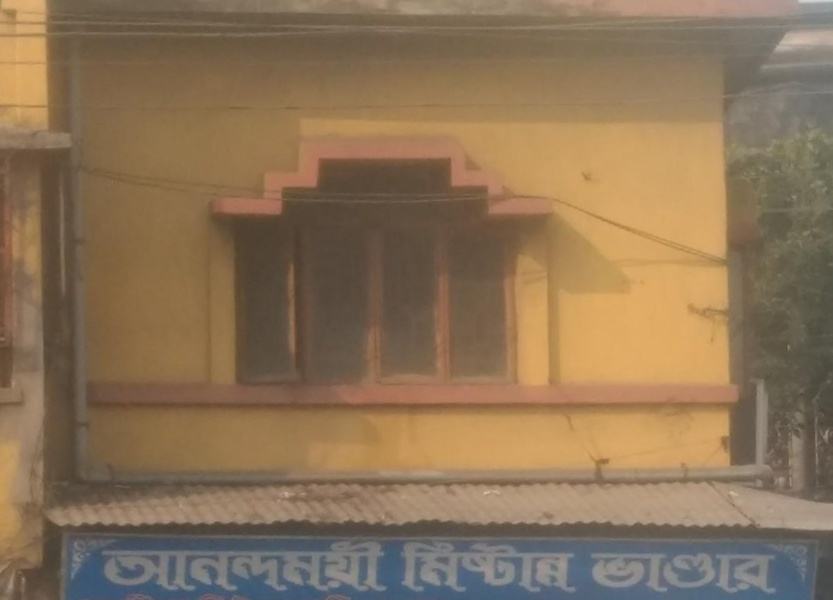text: (97, 540, 112, 597), (113, 540, 128, 597), (129, 540, 144, 597), (145, 540, 160, 597), (161, 540, 176, 597), (177, 540, 192, 597), (193, 540, 208, 597), (209, 540, 224, 597), (225, 540, 240, 597), (241, 540, 256, 597), (257, 540, 272, 597), (273, 540, 288, 597), (289, 540, 304, 597), (305, 540, 320, 597), (321, 540, 336, 597), (337, 540, 352, 597), (353, 540, 368, 597), (369, 540, 384, 597), (401, 540, 416, 597), (417, 540, 432, 597), (433, 540, 448, 597), (449, 540, 464, 597), (465, 540, 480, 597), (481, 540, 496, 597), (497, 540, 512, 597), (513, 540, 528, 597), (529, 540, 544, 597), (545, 540, 560, 597), (561, 540, 576, 597), (769, 549, 785, 597), (593, 549, 608, 597), (609, 549, 624, 597), (625, 549, 640, 597), (641, 549, 656, 597), (657, 549, 672, 597), (673, 549, 688, 597), (689, 549, 704, 597), (705, 549, 720, 597), (721, 549, 736, 597), (737, 549, 752, 597), (753, 549, 768, 597), (385, 540, 391, 597), (577, 540, 582, 597), (398, 540, 400, 597), (590, 549, 592, 597)
